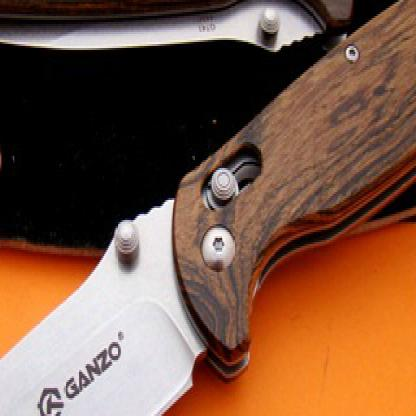knife: (0, 188, 202, 414)
